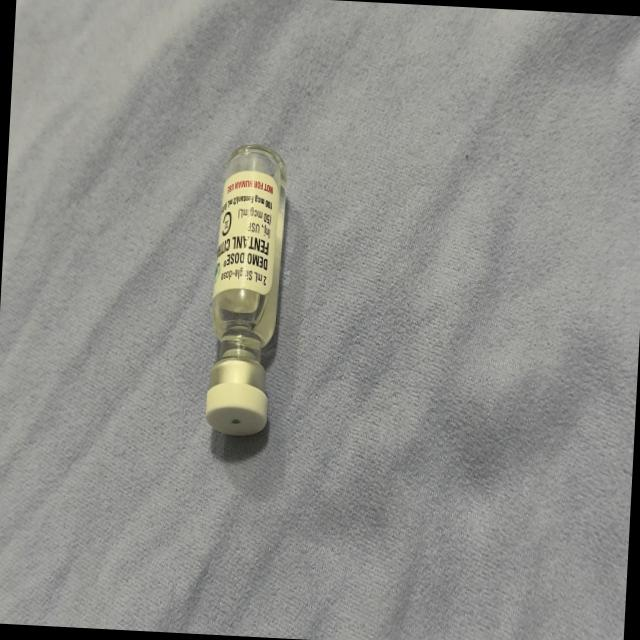fentanl_citrat: (205, 148, 288, 433)
